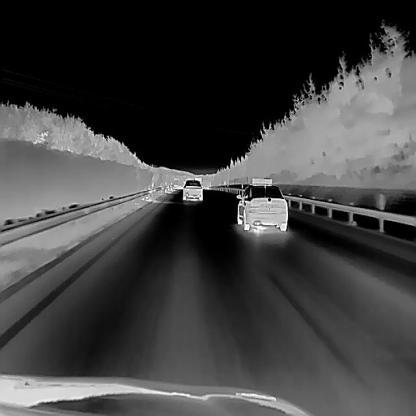car: (235, 176, 287, 230), (181, 178, 203, 200)
